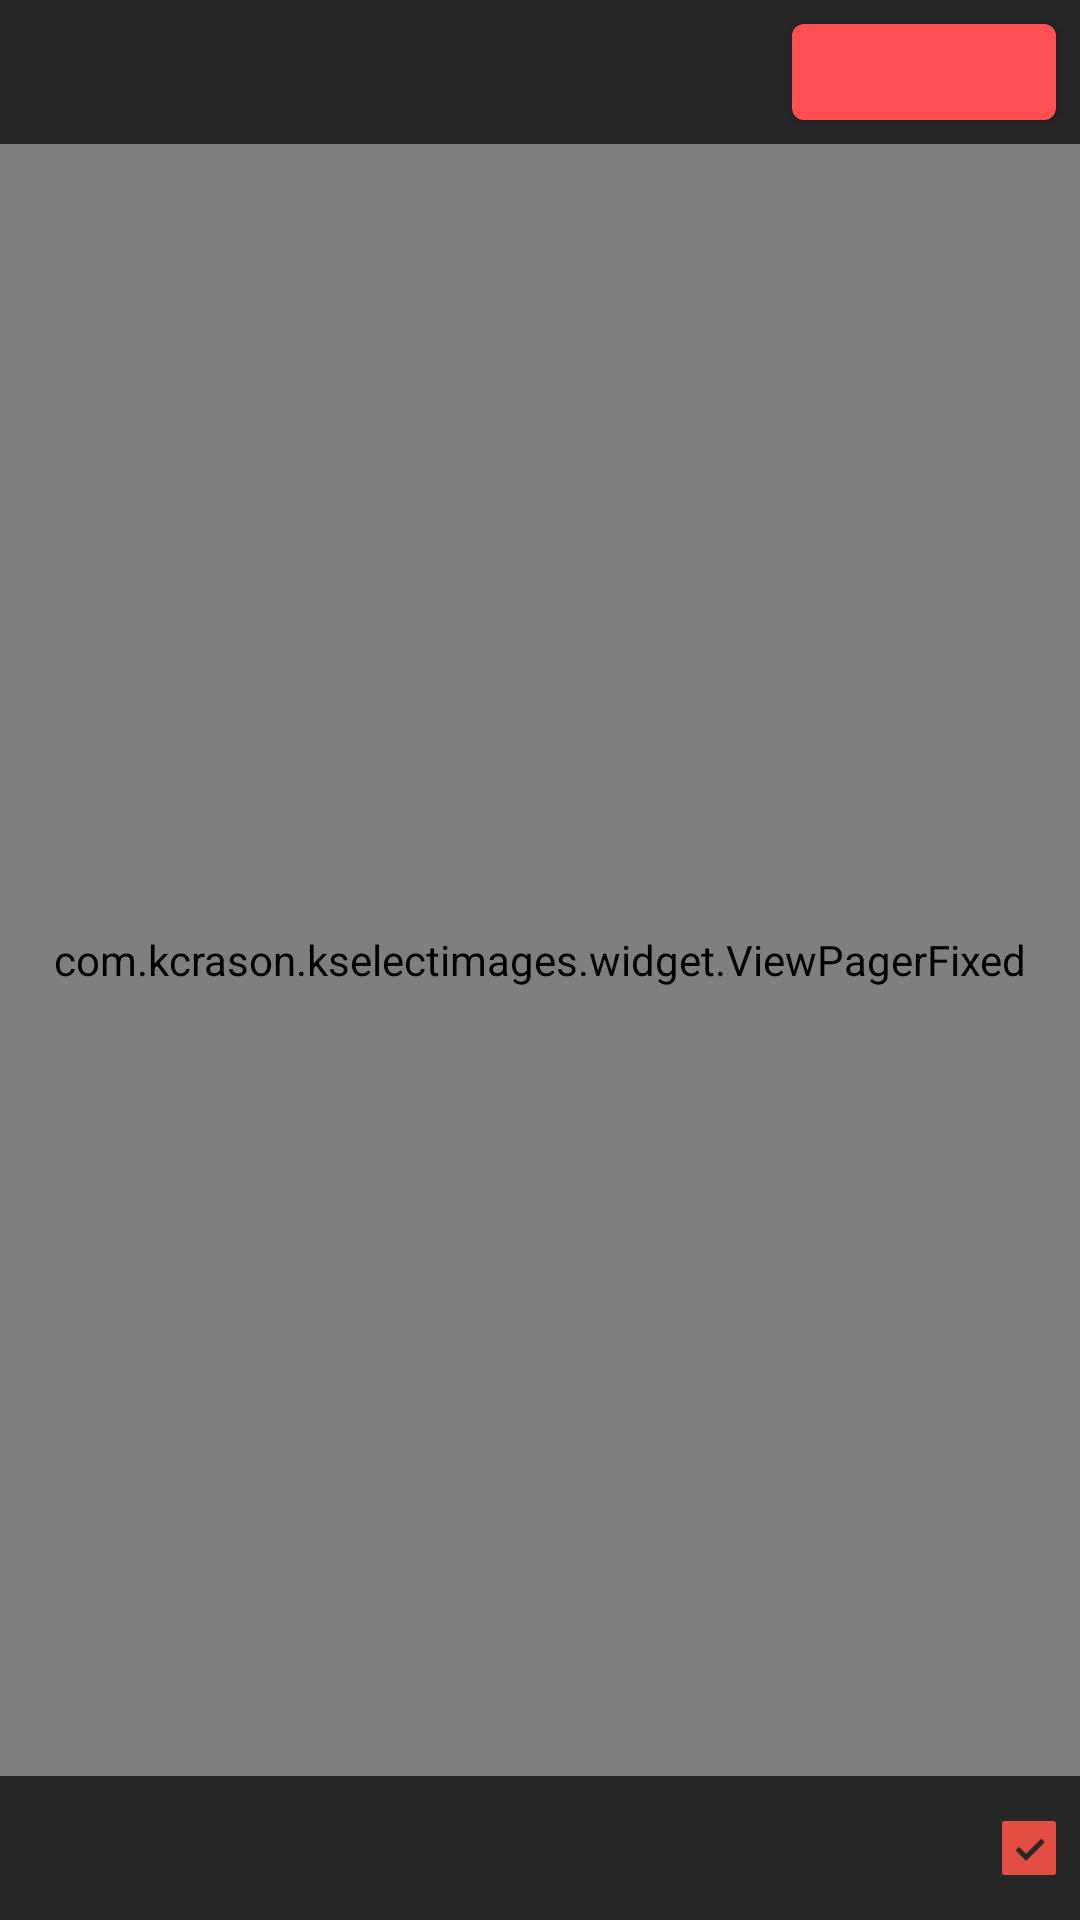

Icons on this 1080×1920 Android screen, each with the point to tap as (x=x, y=y):
item sel: (x=1029, y=1848)
